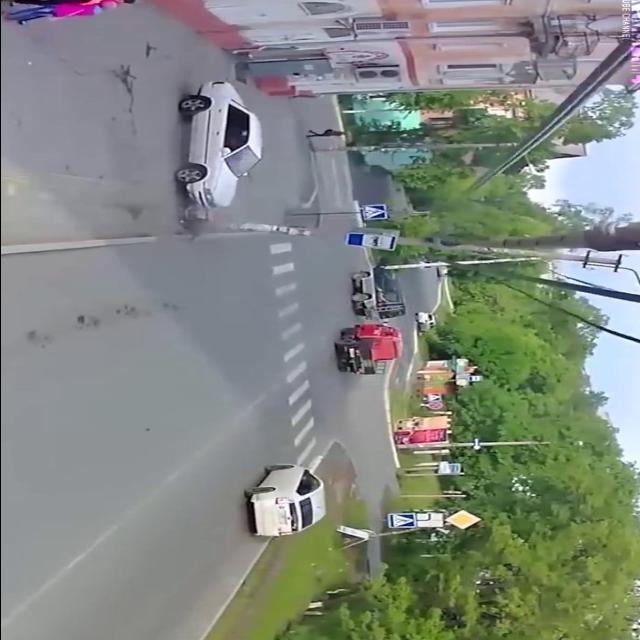accident: (152, 71, 292, 244)
non_accident: (324, 263, 412, 381)
